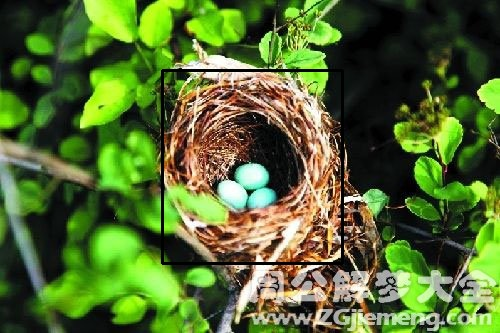bird-nest: (153, 67, 340, 248)
